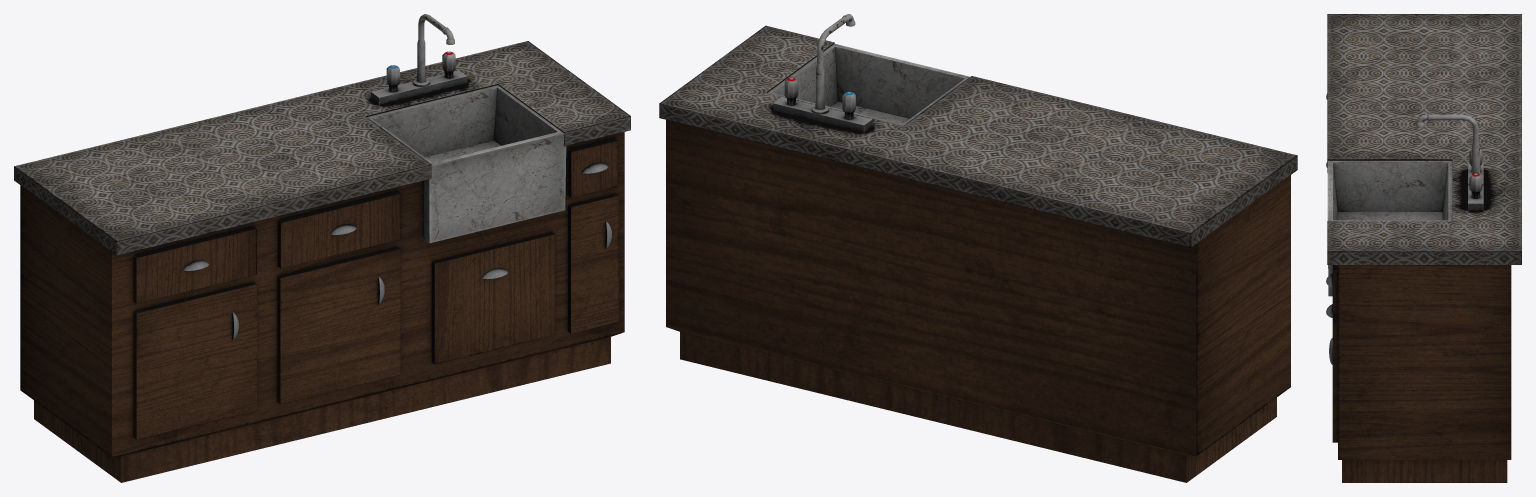
The model's file is kitchen_counter.glb.
3 views of the same model, side by side, from view 1: azimuth 30°, elevation 25°; view 2: azimuth 150°, elevation 25°; view 3: azimuth 270°, elevation 25° (orthographic). The views are drawn at different scales.
Parts seen in each view (by area): view 1: Kitchen; view 2: Kitchen; view 3: Kitchen.
Boxes of the visible parts, x1,y1,x2,y2 form: Kitchen: [14, 14, 630, 482]; Kitchen: [659, 14, 1297, 482]; Kitchen: [1326, 14, 1521, 482].
Bounding box in the file's own units: 2.15 × 1.32 × 0.7488.
6 materials, 6 textured.
